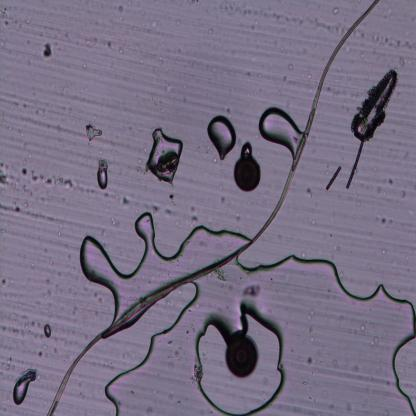Air bubble: (233, 255, 416, 416), (79, 210, 247, 314), (190, 299, 286, 416), (145, 128, 185, 184), (258, 105, 302, 152), (206, 113, 237, 162), (12, 376, 30, 406), (95, 169, 108, 190), (240, 142, 253, 156), (44, 324, 51, 338)
Background material: (345, 140, 364, 190), (221, 0, 270, 19), (325, 166, 341, 191), (85, 122, 103, 142), (214, 268, 232, 288), (241, 282, 262, 297), (189, 363, 204, 382), (20, 366, 37, 382), (270, 10, 290, 23), (0, 169, 13, 188), (327, 23, 344, 35), (43, 42, 54, 60), (56, 80, 69, 94), (135, 156, 144, 175), (188, 212, 198, 229), (40, 174, 53, 186), (63, 178, 75, 190), (103, 358, 115, 370), (166, 192, 176, 206), (53, 176, 64, 188), (0, 202, 14, 211), (98, 159, 109, 170), (119, 195, 130, 206), (30, 212, 45, 220), (20, 182, 29, 195), (166, 389, 175, 402), (370, 334, 378, 348), (380, 405, 390, 416), (30, 170, 39, 182), (220, 168, 228, 181), (145, 405, 154, 416), (305, 186, 313, 198), (108, 214, 116, 226), (148, 204, 160, 212), (106, 41, 116, 50), (379, 216, 388, 226), (346, 403, 353, 415), (164, 82, 172, 92), (306, 310, 314, 320), (352, 364, 360, 374), (20, 167, 28, 177), (6, 357, 12, 370), (56, 125, 62, 137), (252, 17, 258, 29), (306, 357, 314, 366), (219, 194, 226, 204), (390, 258, 397, 268), (175, 348, 181, 359), (46, 216, 57, 222), (399, 56, 405, 67), (84, 39, 92, 47), (183, 0, 199, 4), (20, 313, 28, 321), (78, 391, 86, 399), (245, 68, 252, 77), (331, 358, 338, 367), (234, 212, 241, 221), (158, 56, 164, 66), (20, 329, 26, 339), (38, 349, 44, 359), (302, 47, 308, 57), (282, 74, 288, 84), (1, 116, 7, 126), (373, 214, 380, 222), (57, 222, 64, 230), (189, 206, 197, 213), (301, 378, 308, 386), (321, 392, 329, 399), (164, 207, 171, 215), (45, 309, 52, 317), (0, 10, 7, 18), (400, 189, 406, 198), (352, 2, 358, 11), (152, 20, 158, 29), (86, 188, 95, 194), (406, 41, 412, 50), (306, 72, 312, 81), (388, 218, 394, 227), (103, 191, 110, 198), (97, 148, 104, 155), (23, 322, 30, 329), (113, 150, 120, 157), (360, 324, 366, 332), (288, 62, 294, 70), (388, 178, 394, 186), (0, 40, 6, 48), (83, 84, 89, 92), (326, 84, 332, 92), (13, 193, 19, 201), (93, 35, 99, 43), (301, 250, 307, 258), (0, 277, 6, 285), (279, 45, 285, 53), (298, 18, 304, 26), (395, 40, 401, 48), (167, 338, 173, 346), (82, 285, 88, 293), (59, 336, 67, 342), (337, 66, 343, 74), (123, 352, 129, 360), (14, 206, 20, 214), (198, 197, 203, 206), (84, 332, 89, 341), (332, 8, 339, 14), (226, 107, 232, 114), (43, 248, 49, 255), (12, 100, 19, 106), (4, 20, 10, 27), (56, 231, 62, 238), (309, 336, 315, 343), (338, 271, 344, 278), (52, 346, 58, 353), (32, 333, 39, 339), (176, 288, 182, 295), (56, 270, 62, 277), (26, 59, 32, 66), (22, 202, 28, 209), (73, 306, 78, 314), (0, 228, 8, 233), (12, 328, 20, 333), (177, 54, 182, 62), (371, 34, 376, 42), (131, 352, 136, 360), (48, 288, 52, 298), (397, 91, 402, 99), (67, 252, 72, 260), (126, 0, 132, 6), (56, 56, 62, 62), (384, 37, 390, 43), (344, 47, 350, 53), (289, 348, 295, 354), (64, 32, 70, 38), (118, 48, 124, 54), (175, 19, 181, 25), (276, 90, 282, 96), (0, 326, 6, 332), (385, 382, 391, 388), (146, 27, 152, 33), (25, 19, 31, 25), (333, 245, 340, 250), (327, 287, 332, 294), (329, 402, 334, 409), (376, 186, 381, 193), (94, 309, 99, 316), (82, 62, 86, 70), (209, 27, 213, 35), (23, 158, 27, 166), (324, 171, 330, 176), (167, 299, 172, 305), (43, 344, 48, 350), (119, 7, 124, 13), (409, 210, 414, 216), (46, 280, 52, 285), (37, 374, 42, 380), (360, 53, 366, 58), (11, 311, 17, 316), (360, 33, 366, 38), (71, 267, 77, 272), (68, 288, 73, 294), (12, 20, 18, 25), (312, 219, 316, 226), (69, 107, 73, 114), (46, 124, 50, 131), (143, 146, 147, 153), (309, 327, 313, 334), (352, 190, 356, 197), (98, 296, 102, 303), (0, 162, 5, 167), (376, 194, 381, 199), (37, 322, 42, 327), (31, 263, 36, 268), (39, 334, 44, 339), (93, 293, 98, 298), (397, 141, 402, 146), (22, 103, 27, 108), (352, 214, 356, 220), (122, 40, 126, 46), (4, 76, 8, 82), (26, 40, 30, 46), (404, 153, 408, 159), (356, 200, 360, 206), (384, 14, 388, 20), (389, 42, 393, 48), (54, 336, 58, 342), (31, 322, 35, 328), (300, 72, 304, 78), (131, 390, 135, 396), (269, 276, 273, 282), (182, 84, 186, 90), (140, 58, 144, 64), (40, 196, 44, 202), (318, 360, 322, 365), (396, 289, 400, 294), (108, 21, 112, 26), (35, 110, 39, 115), (13, 200, 17, 205), (42, 63, 46, 68), (120, 16, 124, 21), (308, 395, 312, 400), (30, 191, 34, 196), (160, 107, 164, 112), (196, 302, 200, 307), (1, 362, 6, 366), (50, 260, 54, 265), (8, 375, 12, 380), (10, 280, 14, 285), (382, 250, 386, 255), (0, 95, 5, 99), (374, 166, 377, 172), (59, 140, 62, 146), (376, 268, 379, 274), (398, 200, 401, 206), (334, 78, 337, 84), (218, 186, 222, 190), (390, 16, 394, 20), (412, 246, 416, 250), (99, 78, 103, 82), (326, 166, 330, 170), (407, 60, 411, 64), (368, 63, 372, 67), (356, 0, 360, 4), (341, 155, 344, 160), (0, 371, 3, 376), (377, 37, 380, 42), (389, 10, 392, 15), (383, 191, 386, 196), (1, 32, 4, 37), (111, 34, 114, 38), (329, 234, 332, 238), (40, 394, 43, 398), (394, 68, 397, 72), (19, 303, 22, 307), (28, 154, 31, 158), (4, 7, 7, 11), (402, 221, 404, 226), (10, 126, 12, 131), (186, 331, 189, 334), (19, 26, 22, 29), (378, 14, 380, 18), (76, 15, 78, 19), (44, 116, 46, 119), (112, 13, 114, 16)
Diatom: (352, 68, 400, 141), (225, 336, 260, 381), (234, 157, 261, 194)
Microfibre: (45, 0, 380, 416), (95, 281, 200, 416)
